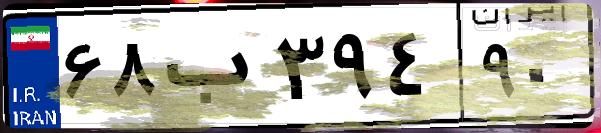0: (525, 38, 570, 115)
3: (270, 28, 330, 110)
4: (385, 28, 445, 110)
6: (57, 26, 110, 100)
8: (110, 28, 158, 98)
9: (330, 28, 385, 110), (475, 38, 525, 113)
ب: (158, 20, 270, 120)
